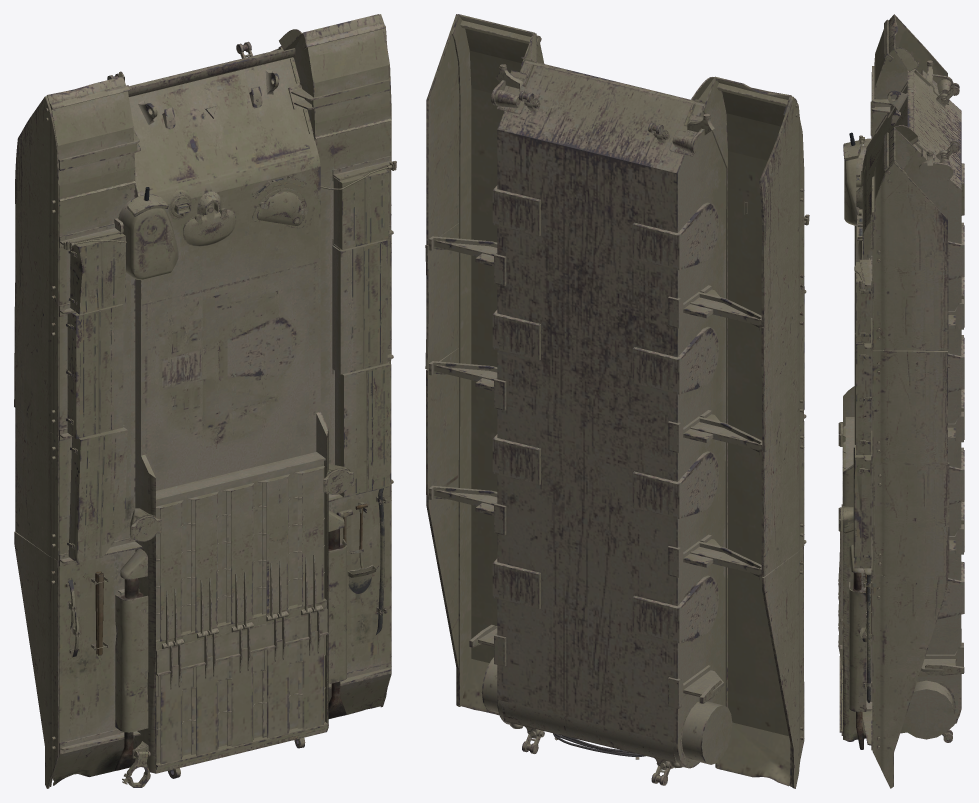
Rendered from Hull.glb.
The picture shows the model from 3 angles, left to right: view 1: azimuth 30°, elevation 25°; view 2: azimuth 150°, elevation 25°; view 3: azimuth 270°, elevation 25°; orthographic projection. The views are drawn at different scales.
Parts seen in each view (by area): view 1: set_0_group_0; view 2: set_0_group_0; view 3: set_0_group_0.
Boxes of the visible parts, box(x1,y1,x2,y2) form: set_0_group_0: box(14, 14, 396, 788); set_0_group_0: box(425, 14, 809, 788); set_0_group_0: box(838, 14, 964, 788).
Bounding box in the file's own units: 3.99 × 7.8 × 1.42.
Materials: 1 (1 with a texture image).
